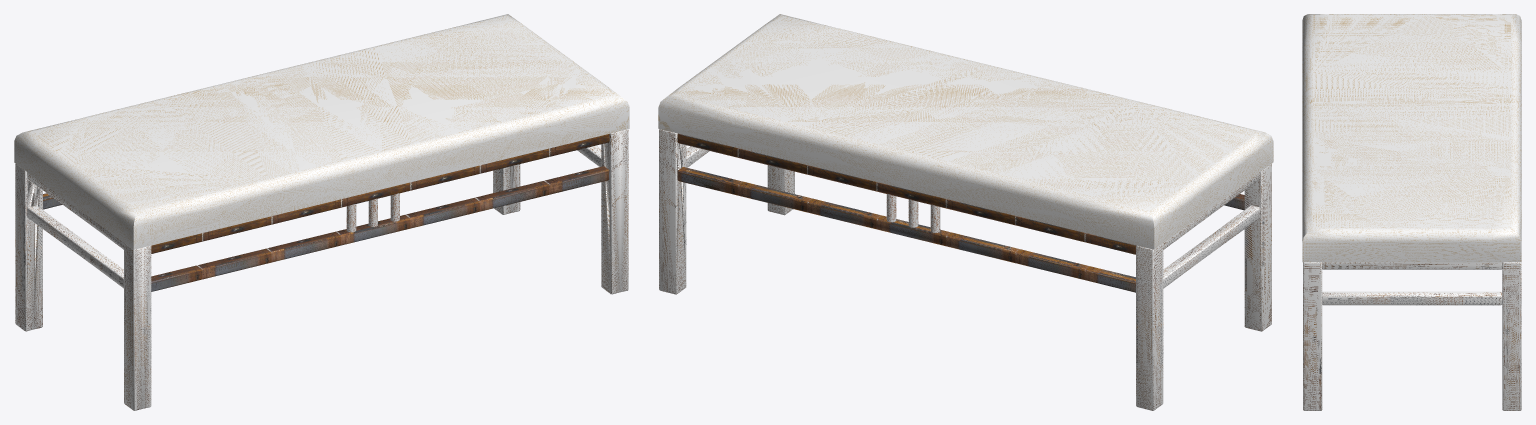
3 renders of one model, left to right at view 1: azimuth 30°, elevation 25°; view 2: azimuth 150°, elevation 25°; view 3: azimuth 270°, elevation 25°, orthographic. The views are drawn at different scales.
Visible parts, largest first — view 1: mesh6_mesh6-geometry, mesh5_mesh5-geometry, mesh4_mesh4-geometry, mesh3_mesh3-geometry, mesh2_mesh2-geometry, mesh1_mesh1-geometry; view 2: mesh6_mesh6-geometry, mesh2_mesh2-geometry, mesh5_mesh5-geometry, mesh1_mesh1-geometry, mesh4_mesh4-geometry; view 3: mesh6_mesh6-geometry, mesh2_mesh2-geometry, mesh4_mesh4-geometry.
Boxes of the visible parts, bbox=[...] form: mesh6_mesh6-geometry: bbox=[14, 14, 629, 249]; mesh5_mesh5-geometry: bbox=[15, 164, 151, 410]; mesh4_mesh4-geometry: bbox=[151, 129, 628, 294]; mesh3_mesh3-geometry: bbox=[151, 166, 609, 291]; mesh2_mesh2-geometry: bbox=[43, 145, 601, 214]; mesh1_mesh1-geometry: bbox=[346, 193, 399, 232]; mesh6_mesh6-geometry: bbox=[658, 14, 1273, 249]; mesh2_mesh2-geometry: bbox=[659, 129, 1136, 294]; mesh5_mesh5-geometry: bbox=[1136, 164, 1271, 410]; mesh1_mesh1-geometry: bbox=[886, 194, 940, 232]; mesh4_mesh4-geometry: bbox=[767, 165, 794, 215]; mesh6_mesh6-geometry: bbox=[1302, 14, 1521, 262]; mesh2_mesh2-geometry: bbox=[1322, 262, 1521, 410]; mesh4_mesh4-geometry: bbox=[1303, 262, 1322, 410].
Size of the model in its own units: 0.8723 by 0.3271 by 0.3635.
